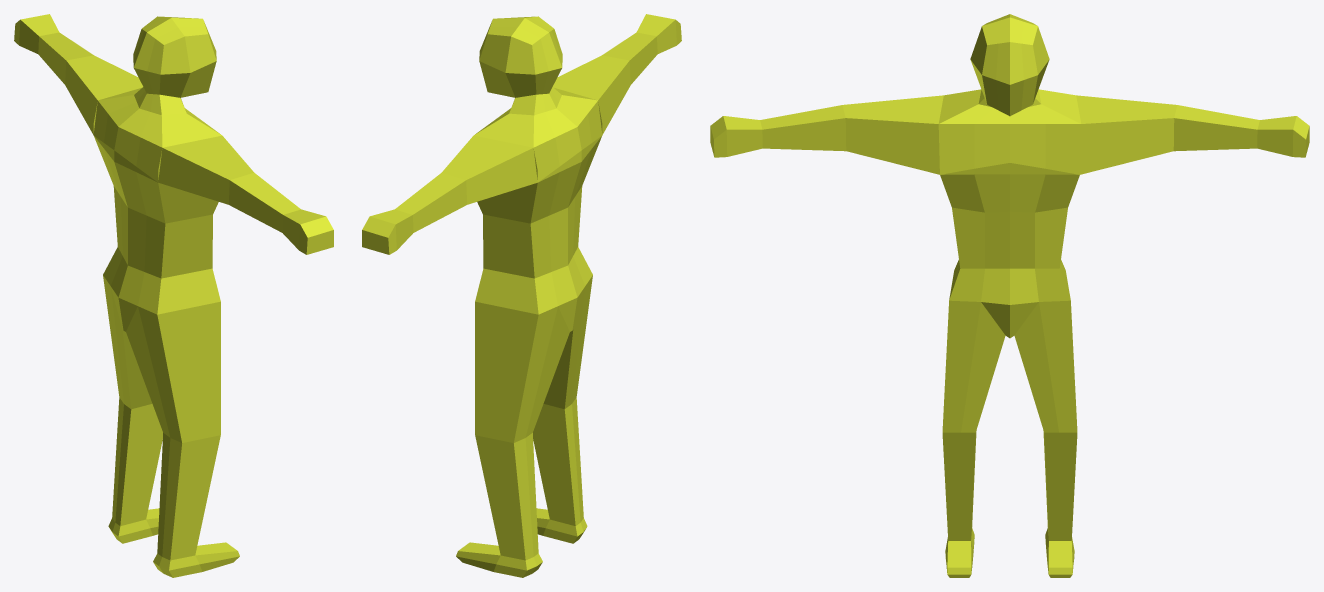
File: Personnage.fbx
3 views of the same model, side by side, from view 1: azimuth 30°, elevation 25°; view 2: azimuth 150°, elevation 25°; view 3: azimuth 270°, elevation 25° (orthographic). The views are drawn at different scales.
Parts seen in each view (by area): view 1: Personnage; view 2: Personnage; view 3: Personnage.
Part boxes in pixels (box(x1,y1,x2,y2)): Personnage: box(14, 14, 333, 577); Personnage: box(362, 14, 681, 577); Personnage: box(710, 14, 1309, 577).
Bounding box in the file's own units: 328 × 1635 × 1632.
